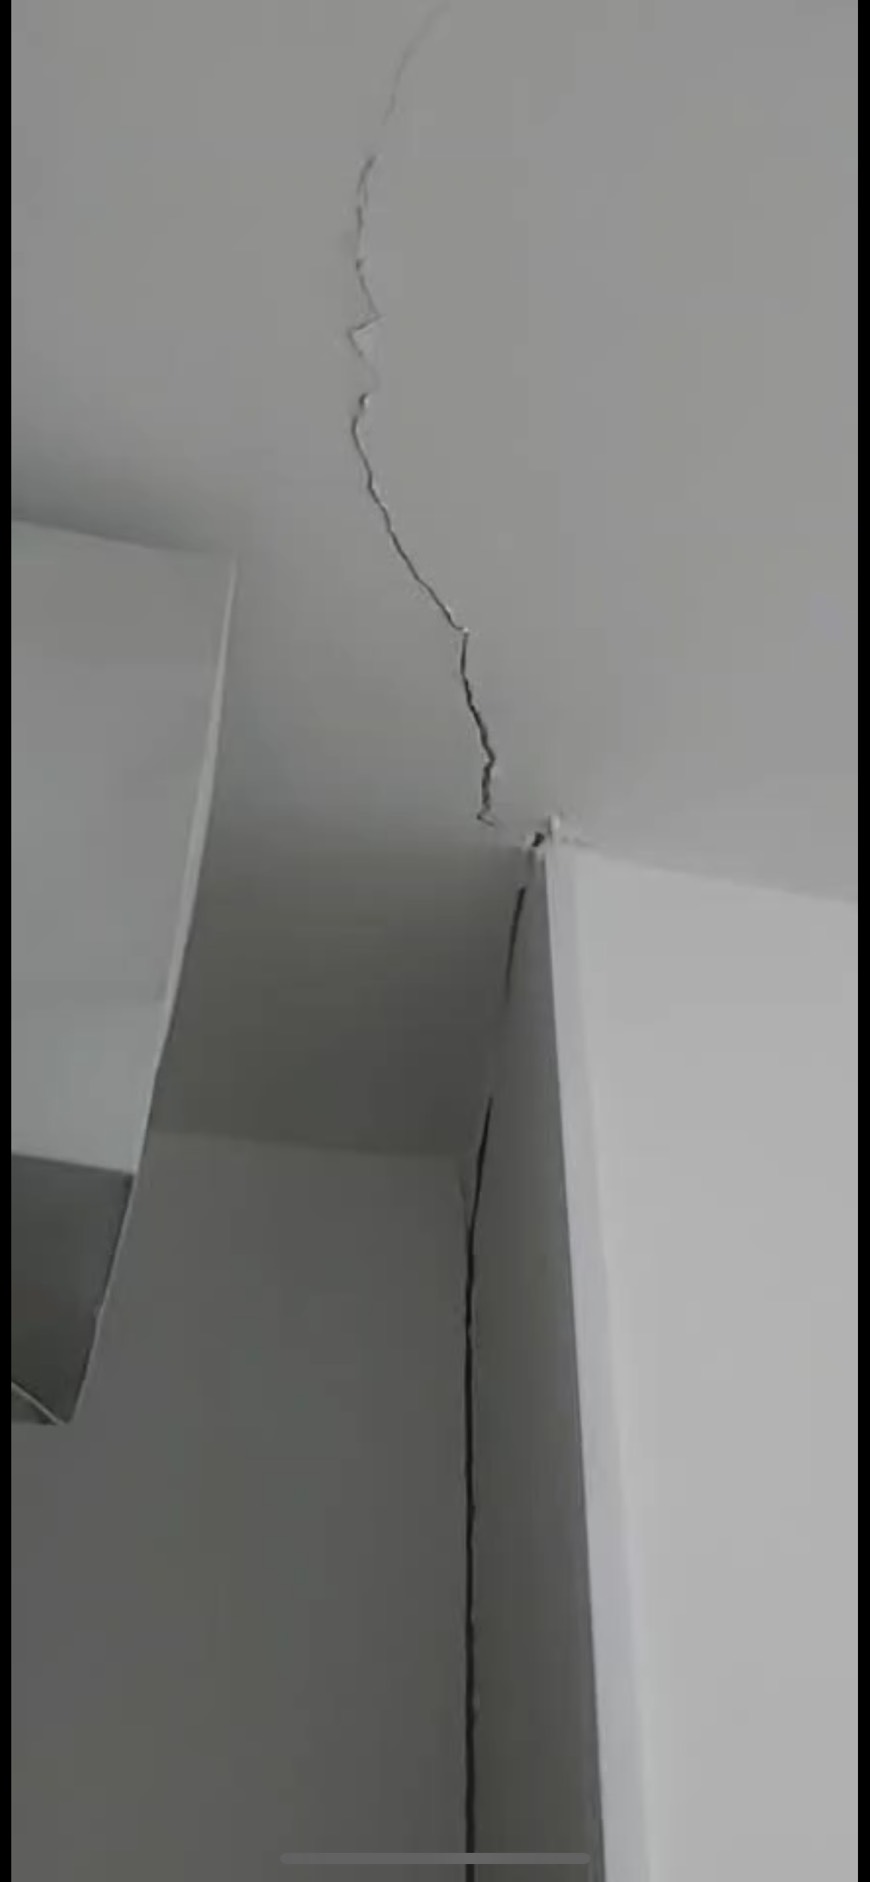Low: (323, 32, 588, 1872)
